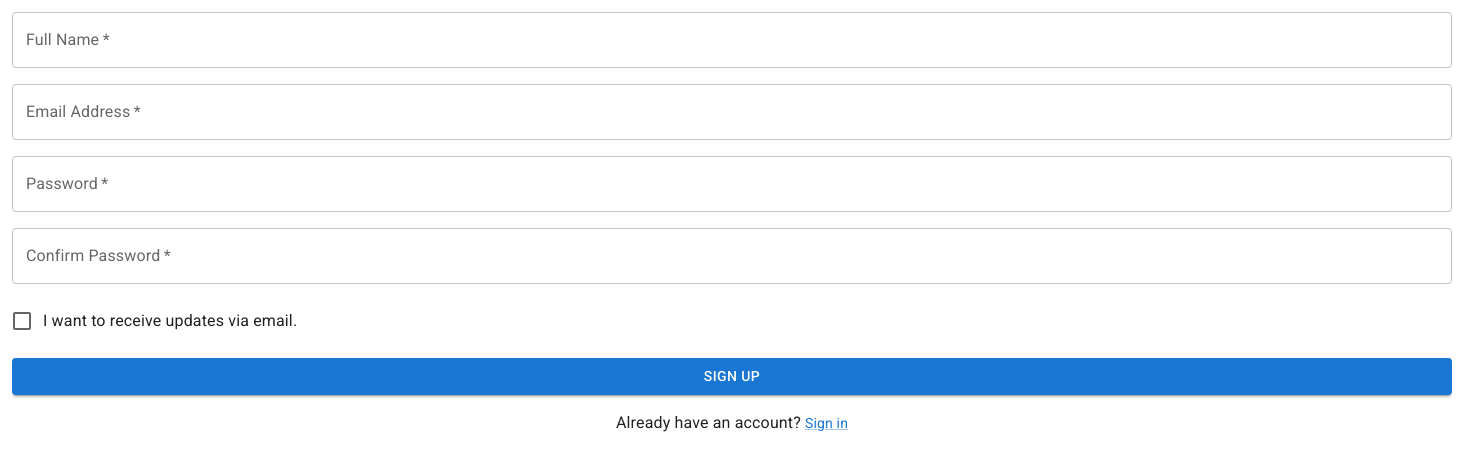
it: LegacyRegister › should show password match error
Type "Pass123!" into the password field labelled "Password *" at (732, 184), box [12,156,1452,212]
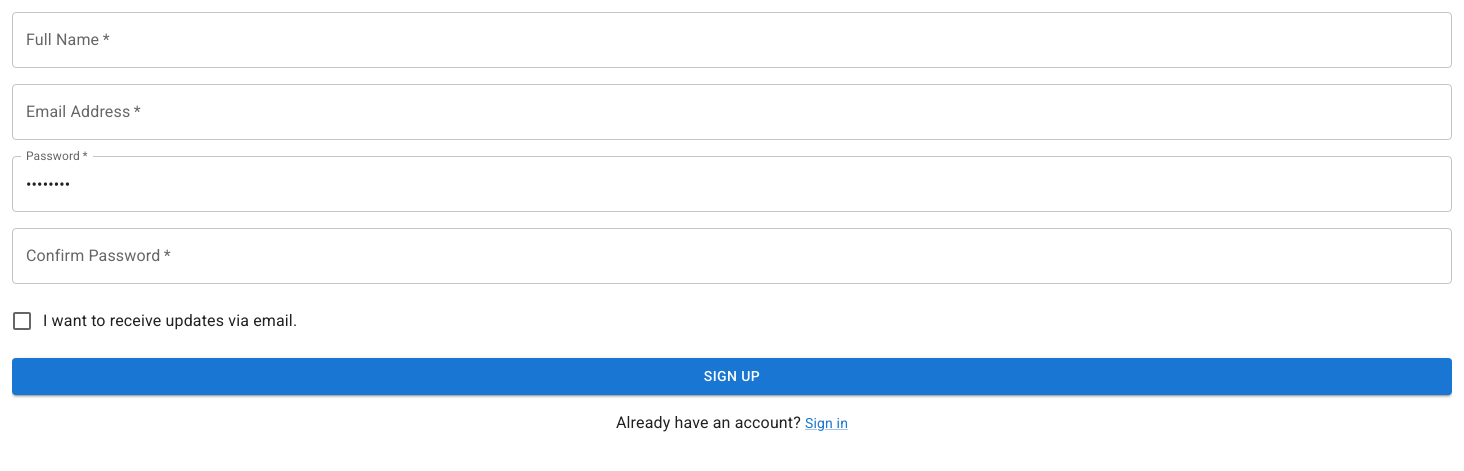
Type "Pass124!" into the password field labelled "Confirm Password *" at (732, 256), box [12,228,1452,284]
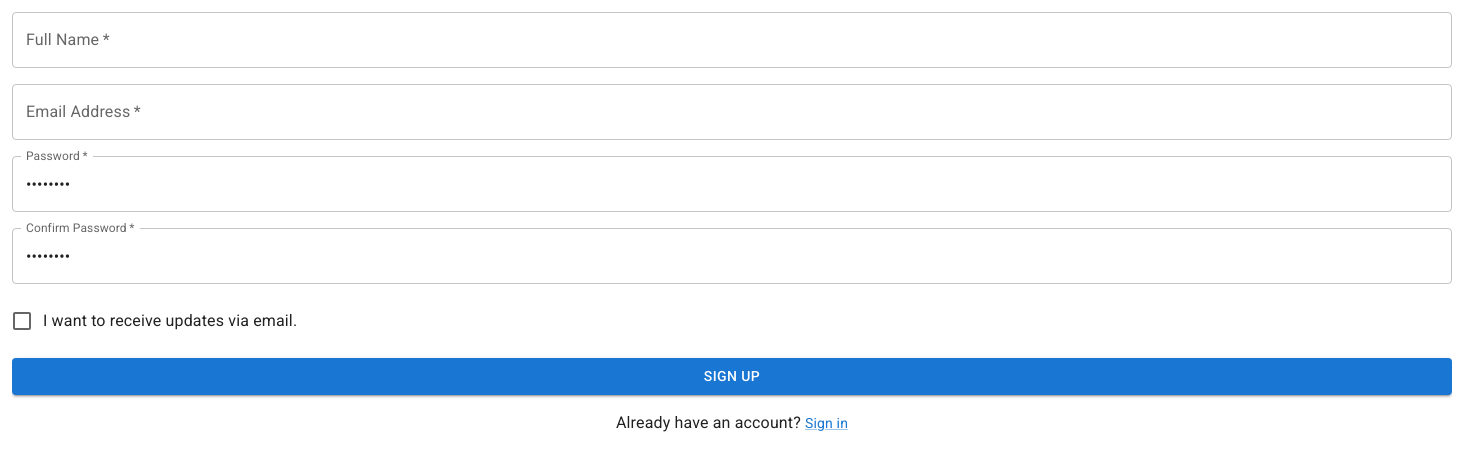
Leave the password field labelled "Confirm Password *", box [12,228,1452,284]
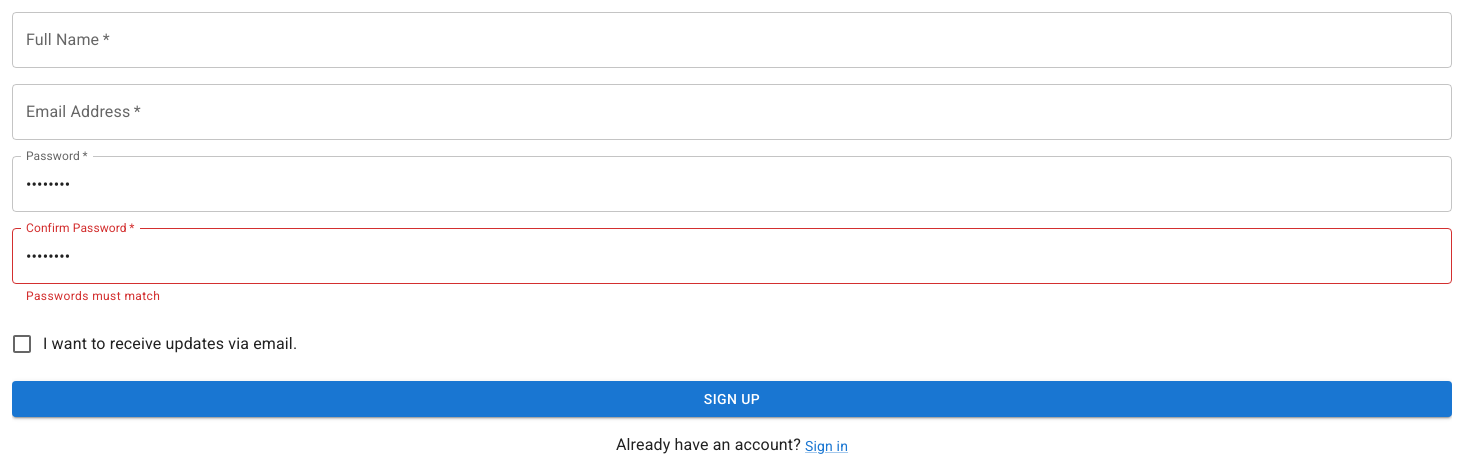
Check: the text "Passwords must match" is shown, box [26,289,160,303]
